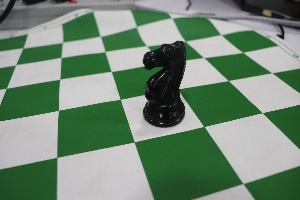black_horse: (134, 24, 191, 134)
